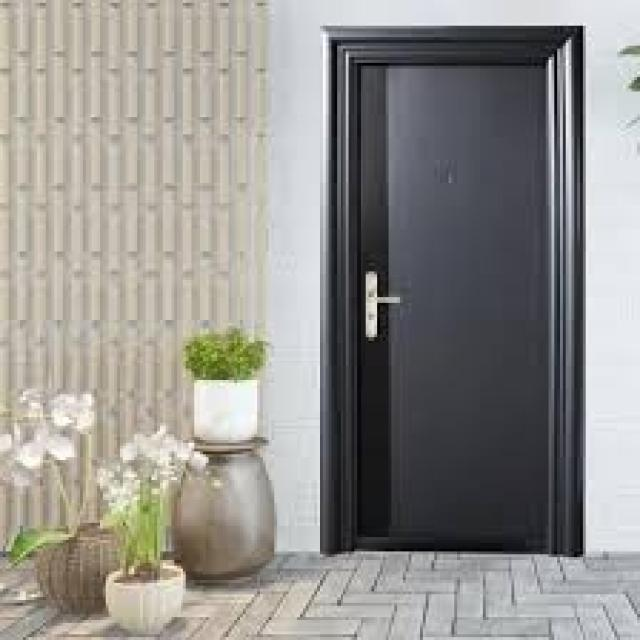door: (326, 27, 583, 556)
